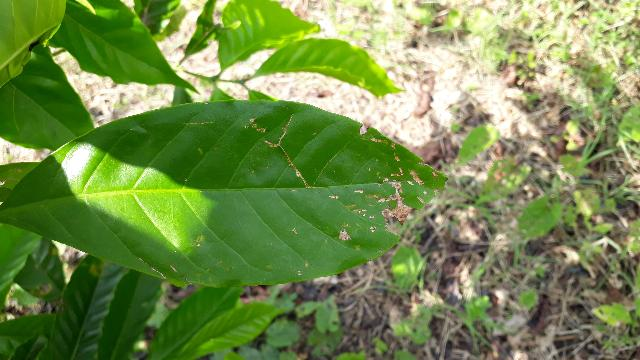healthy: (1, 100, 447, 290)
